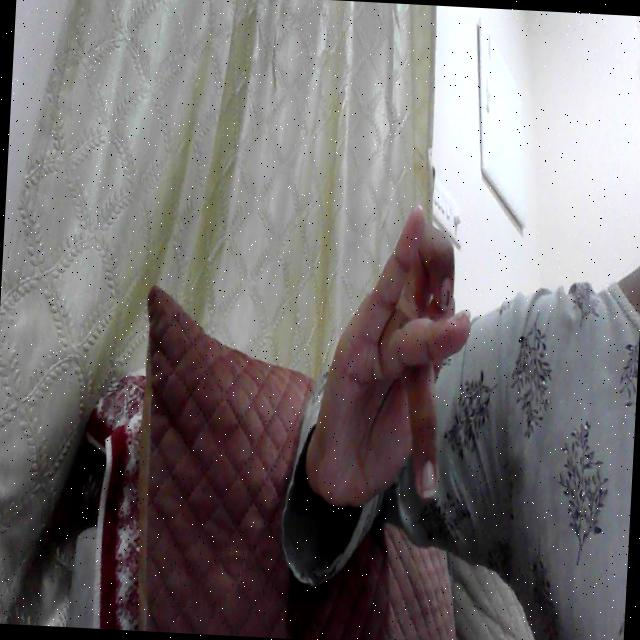Katakamukha: (296, 201, 479, 538)
